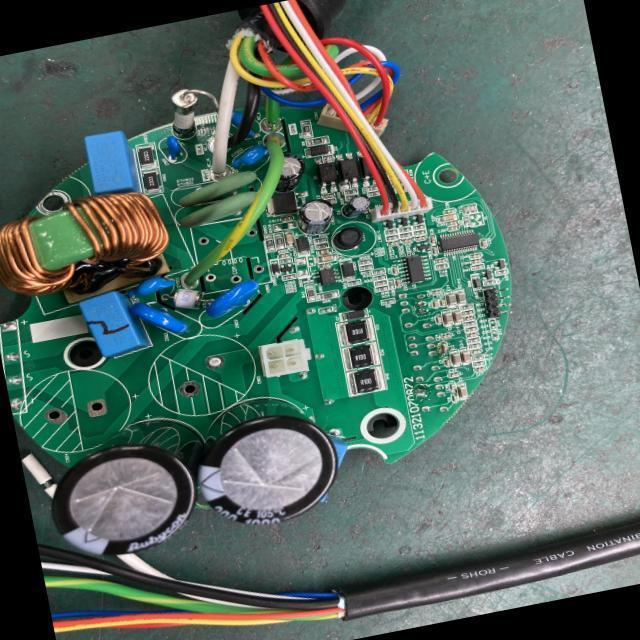damged: (414, 383, 431, 399)
